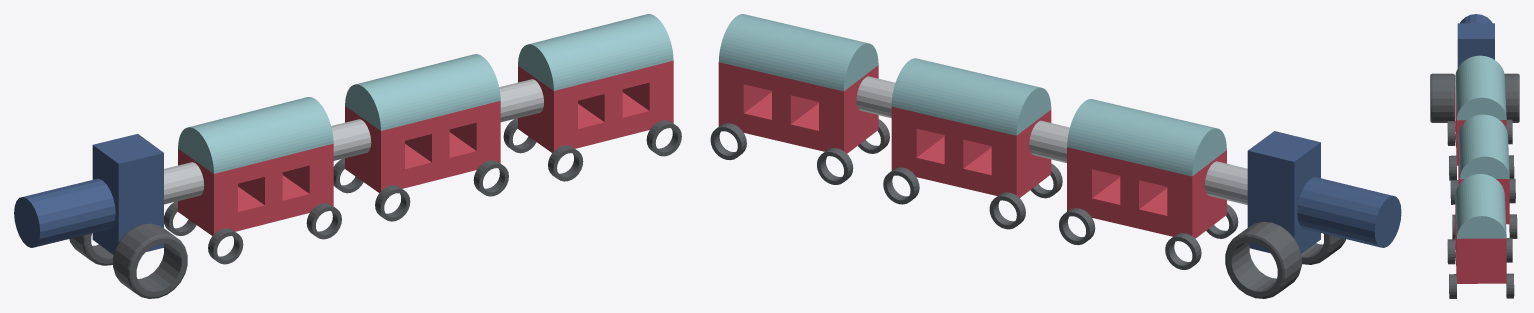
Rendered from train.glb.
3 renders of one model, left to right at view 1: azimuth 30°, elevation 25°; view 2: azimuth 150°, elevation 25°; view 3: azimuth 270°, elevation 25°, orthographic. The views are drawn at different scales.
Parts seen in each view (by area): view 1: Mesh_Mesh_head_geo.001_lambert2SG.001; view 2: Mesh_Mesh_head_geo.001_lambert2SG.001; view 3: Mesh_Mesh_head_geo.001_lambert2SG.001.
Boxes of the visible parts, x1,y1,x2,y2 form: Mesh_Mesh_head_geo.001_lambert2SG.001: [14, 14, 681, 298]; Mesh_Mesh_head_geo.001_lambert2SG.001: [710, 14, 1401, 298]; Mesh_Mesh_head_geo.001_lambert2SG.001: [1430, 14, 1519, 298].
Bounding box in the file's own units: 210 × 40 × 36.
